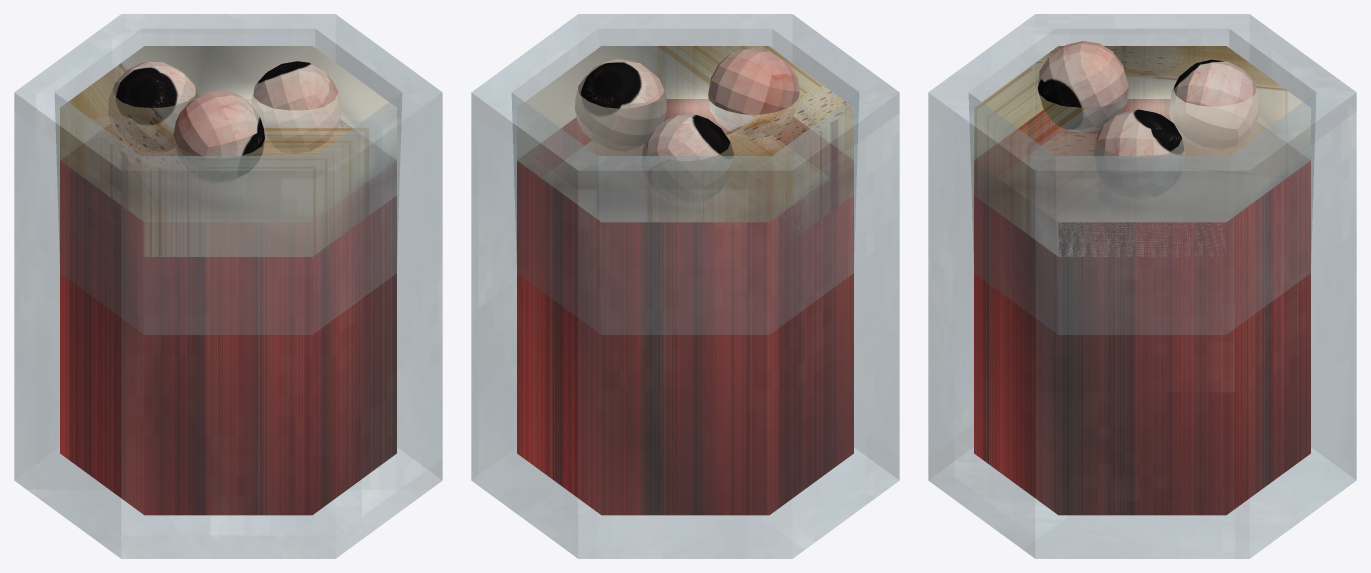
File: ice capuchino.fbx
3 views of the same model, side by side, from view 1: azimuth 30°, elevation 25°; view 2: azimuth 150°, elevation 25°; view 3: azimuth 270°, elevation 25° (orthographic).
Parts seen in each view (by area): view 1: Cylinder_0, Cylinder_0.001, Cube.002, Cube.001, Cube; view 2: Cylinder_0, Cylinder_0.001, Cube.001, Cube.002, Cube; view 3: Cylinder_0, Cylinder_0.001, Cube, Cube.001, Cube.002.
Part boxes in pixels (<box>): Cylinder_0: <box>14,14,442,558</box>; Cylinder_0.001: <box>60,46,396,515</box>; Cube.002: <box>173,91,264,182</box>; Cube.001: <box>251,61,341,153</box>; Cube: <box>108,61,198,152</box>; Cylinder_0: <box>471,14,899,558</box>; Cylinder_0.001: <box>517,46,853,515</box>; Cube.001: <box>575,59,666,151</box>; Cube.002: <box>708,48,799,139</box>; Cube: <box>642,113,733,205</box>; Cylinder_0: <box>928,14,1356,558</box>; Cylinder_0.001: <box>974,46,1310,515</box>; Cube: <box>1170,59,1259,151</box>; Cube.001: <box>1093,109,1184,199</box>; Cube.002: <box>1037,41,1128,132</box>.
Bounding box in the file's own units: 13182 × 16309 × 15221.
6 materials, 6 textured.
